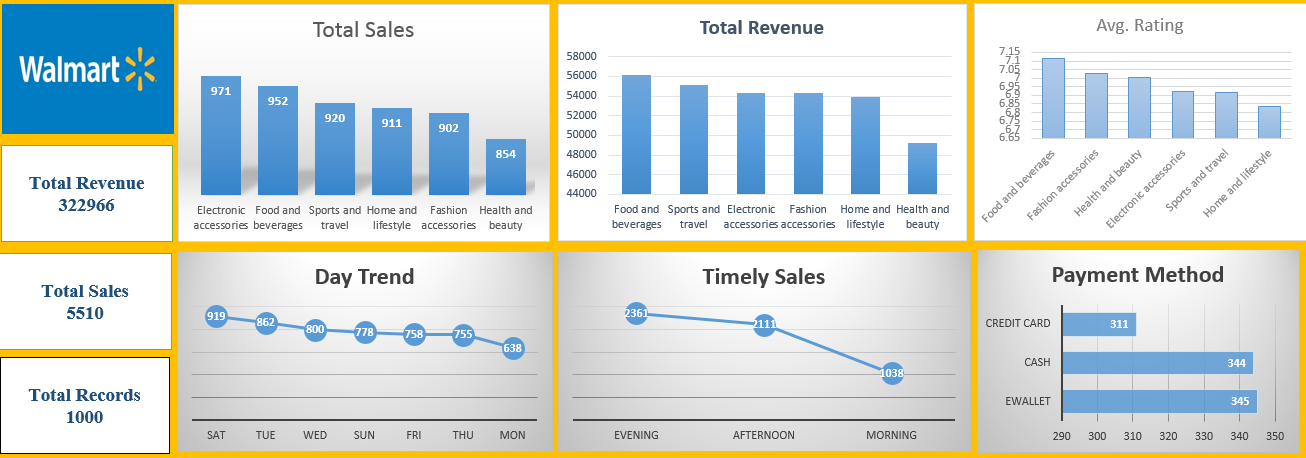

Layout of this report page (visuals, bound fields, positions):
{"tool":"powerbi","page":{"name":"Page 1","canvas":[1280,720],"ordinal":0},"visuals":[{"type":"columnChart","title":"Total Quantity","fields":{"Category":["WalmartSalesForecasting csv.Product line"],"Y":["Sum(WalmartSalesForecasting csv.Quantity)"]},"box":[285.7,47.6,321.8,329],"z":0},{"type":"columnChart","title":"Total Sales","fields":{"Category":["WalmartSalesForecasting csv.Product line"],"Y":["Sum(WalmartSalesForecasting csv.Total)"]},"box":[621.9,47.6,318.9,329],"z":1},{"type":"columnChart","title":"Avg. Rating","fields":{"Category":["WalmartSalesForecasting csv.Product line"],"Y":["Avg(WalmartSalesForecasting csv.Rating)"]},"box":[952.3,47.6,314.5,329],"z":2},{"type":"barChart","title":"Payment Method","fields":{"Category":["WalmartSalesForecasting csv.Payment"],"Y":["CountNonNull(WalmartSalesForecasting csv.Invoice ID)"]},"box":[952.3,389.6,314.5,300.1],"z":3},{"type":"lineChart","title":"Time Wise Sales","fields":{"Category":["WalmartSalesForecasting csv.DayTime"],"Y":["Sum(WalmartSalesForecasting csv.Quantity)"]},"box":[621.9,389.6,318.9,300.1],"z":4},{"type":"lineChart","title":"Sales By Day","fields":{"Category":["WalmartSalesForecasting csv.DayName"],"Y":["Sum(WalmartSalesForecasting csv.Quantity)"]},"box":[285.7,389.6,321.8,300.1],"z":5},{"type":"card","title":"Total Revenue","fields":{"Values":["WalmartSalesForecasting csv.Total Sales"]},"box":[15.9,229.4,245.3,147.2],"z":6},{"type":"card","title":"Total Quantity","fields":{"Values":["WalmartSalesForecasting csv.Total Quantity"]},"box":[15.9,389.6,245.3,137.1],"z":7},{"type":"card","title":"Total Records","fields":{"Values":["WalmartSalesForecasting csv.Total Record"]},"box":[15.9,539.6,245.3,150.1],"z":8},{"type":"image","box":[15.9,47.6,255.4,164.5],"z":9}]}

Visuals, with their boxes on the page's 1280x720 design canvas (x1, y1, x2, y2). These are canvas units, not pixel positions in the 1306x458 screenshot, which may show the page scaled, cropped or inside an application window:
"Total Quantity" columnChart: Rect(286, 48, 608, 377)
"Total Sales" columnChart: Rect(622, 48, 941, 377)
"Avg. Rating" columnChart: Rect(952, 48, 1267, 377)
"Payment Method" barChart: Rect(952, 390, 1267, 690)
"Time Wise Sales" lineChart: Rect(622, 390, 941, 690)
"Sales By Day" lineChart: Rect(286, 390, 608, 690)
"Total Revenue" card: Rect(16, 229, 261, 377)
"Total Quantity" card: Rect(16, 390, 261, 527)
"Total Records" card: Rect(16, 540, 261, 690)
image: Rect(16, 48, 271, 212)
